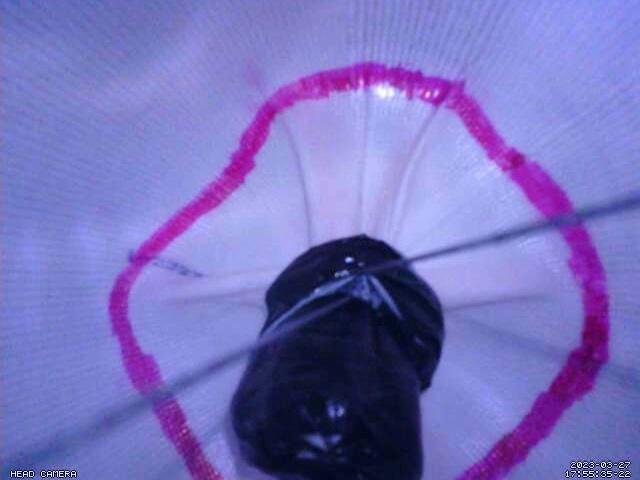red-circle: (108, 60, 612, 480)
